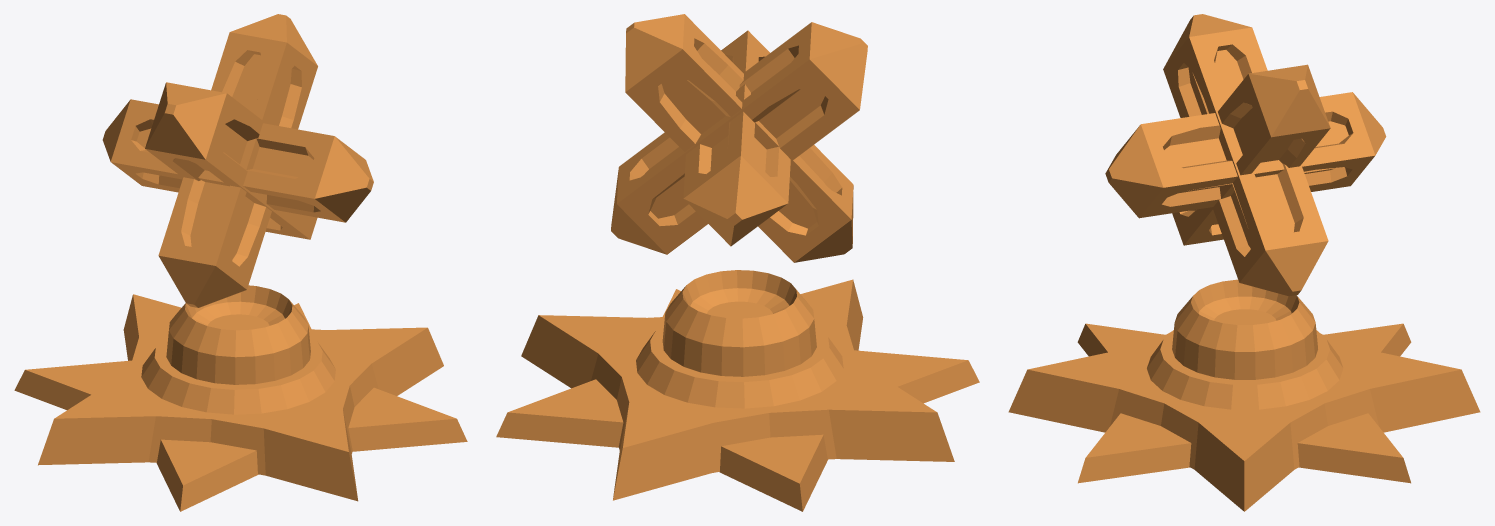
Rendered from FloatingMagicOrnament.fbx.
The picture shows the model from 3 angles, left to right: view 1: azimuth 30°, elevation 25°; view 2: azimuth 150°, elevation 25°; view 3: azimuth 270°, elevation 25°; orthographic projection. The views are drawn at different scales.
Visible parts, largest first — view 1: Cylinder.033; view 2: Cylinder.033; view 3: Cylinder.033.
Part boxes in pixels (<box>): Cylinder.033: <box>14,14,467,511</box>; Cylinder.033: <box>496,14,979,511</box>; Cylinder.033: <box>1008,14,1480,511</box>.
Bounding box in the file's own units: 42.47 × 36.39 × 42.47.
